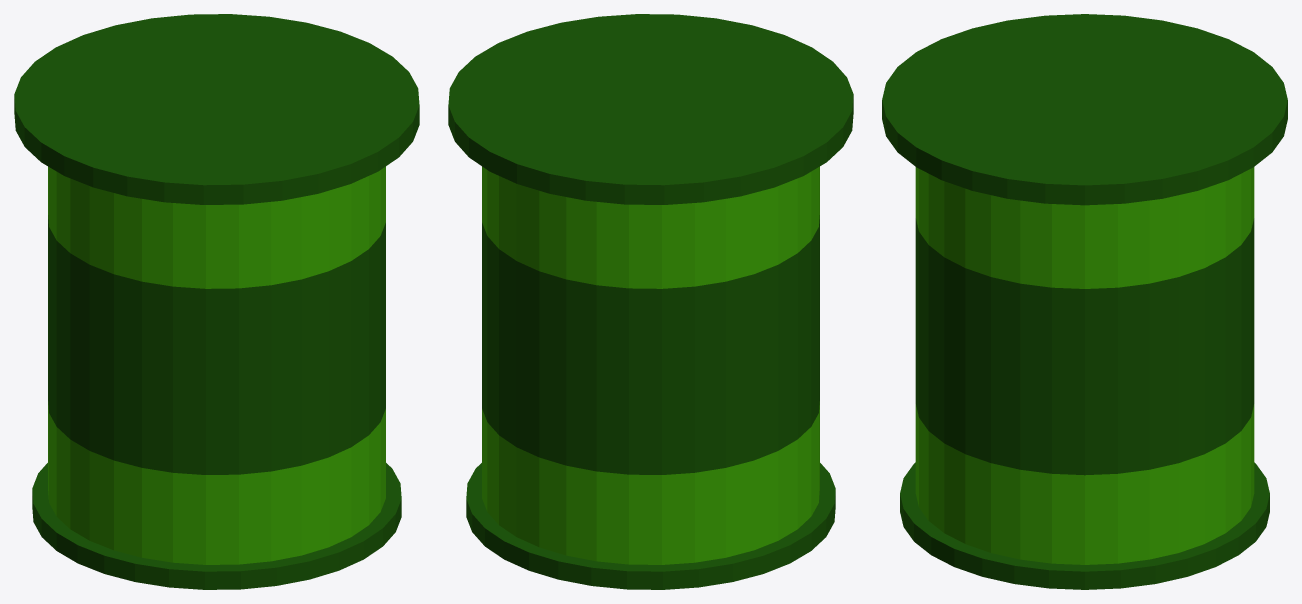
Rendered from recipienteP.fbx.
3 views of the same model, side by side, from view 1: azimuth 30°, elevation 25°; view 2: azimuth 150°, elevation 25°; view 3: azimuth 270°, elevation 25° (orthographic).
Parts seen in each view (by area): view 1: Cylinder; view 2: Cylinder; view 3: Cylinder.
Part boxes in pixels (x1,y1,x2,y2): Cylinder: (14, 14, 419, 589); Cylinder: (448, 14, 853, 589); Cylinder: (882, 14, 1287, 589).
Size of the model in its own units: 240 by 269 by 240.
